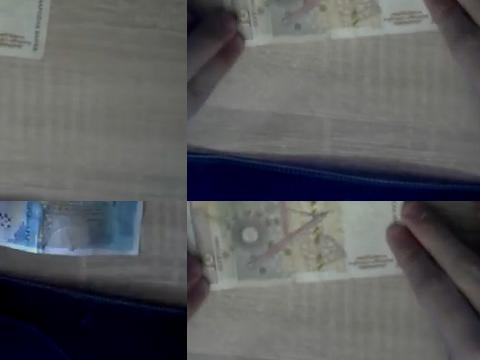10leva: (187, 201, 403, 289), (222, 0, 436, 45)
